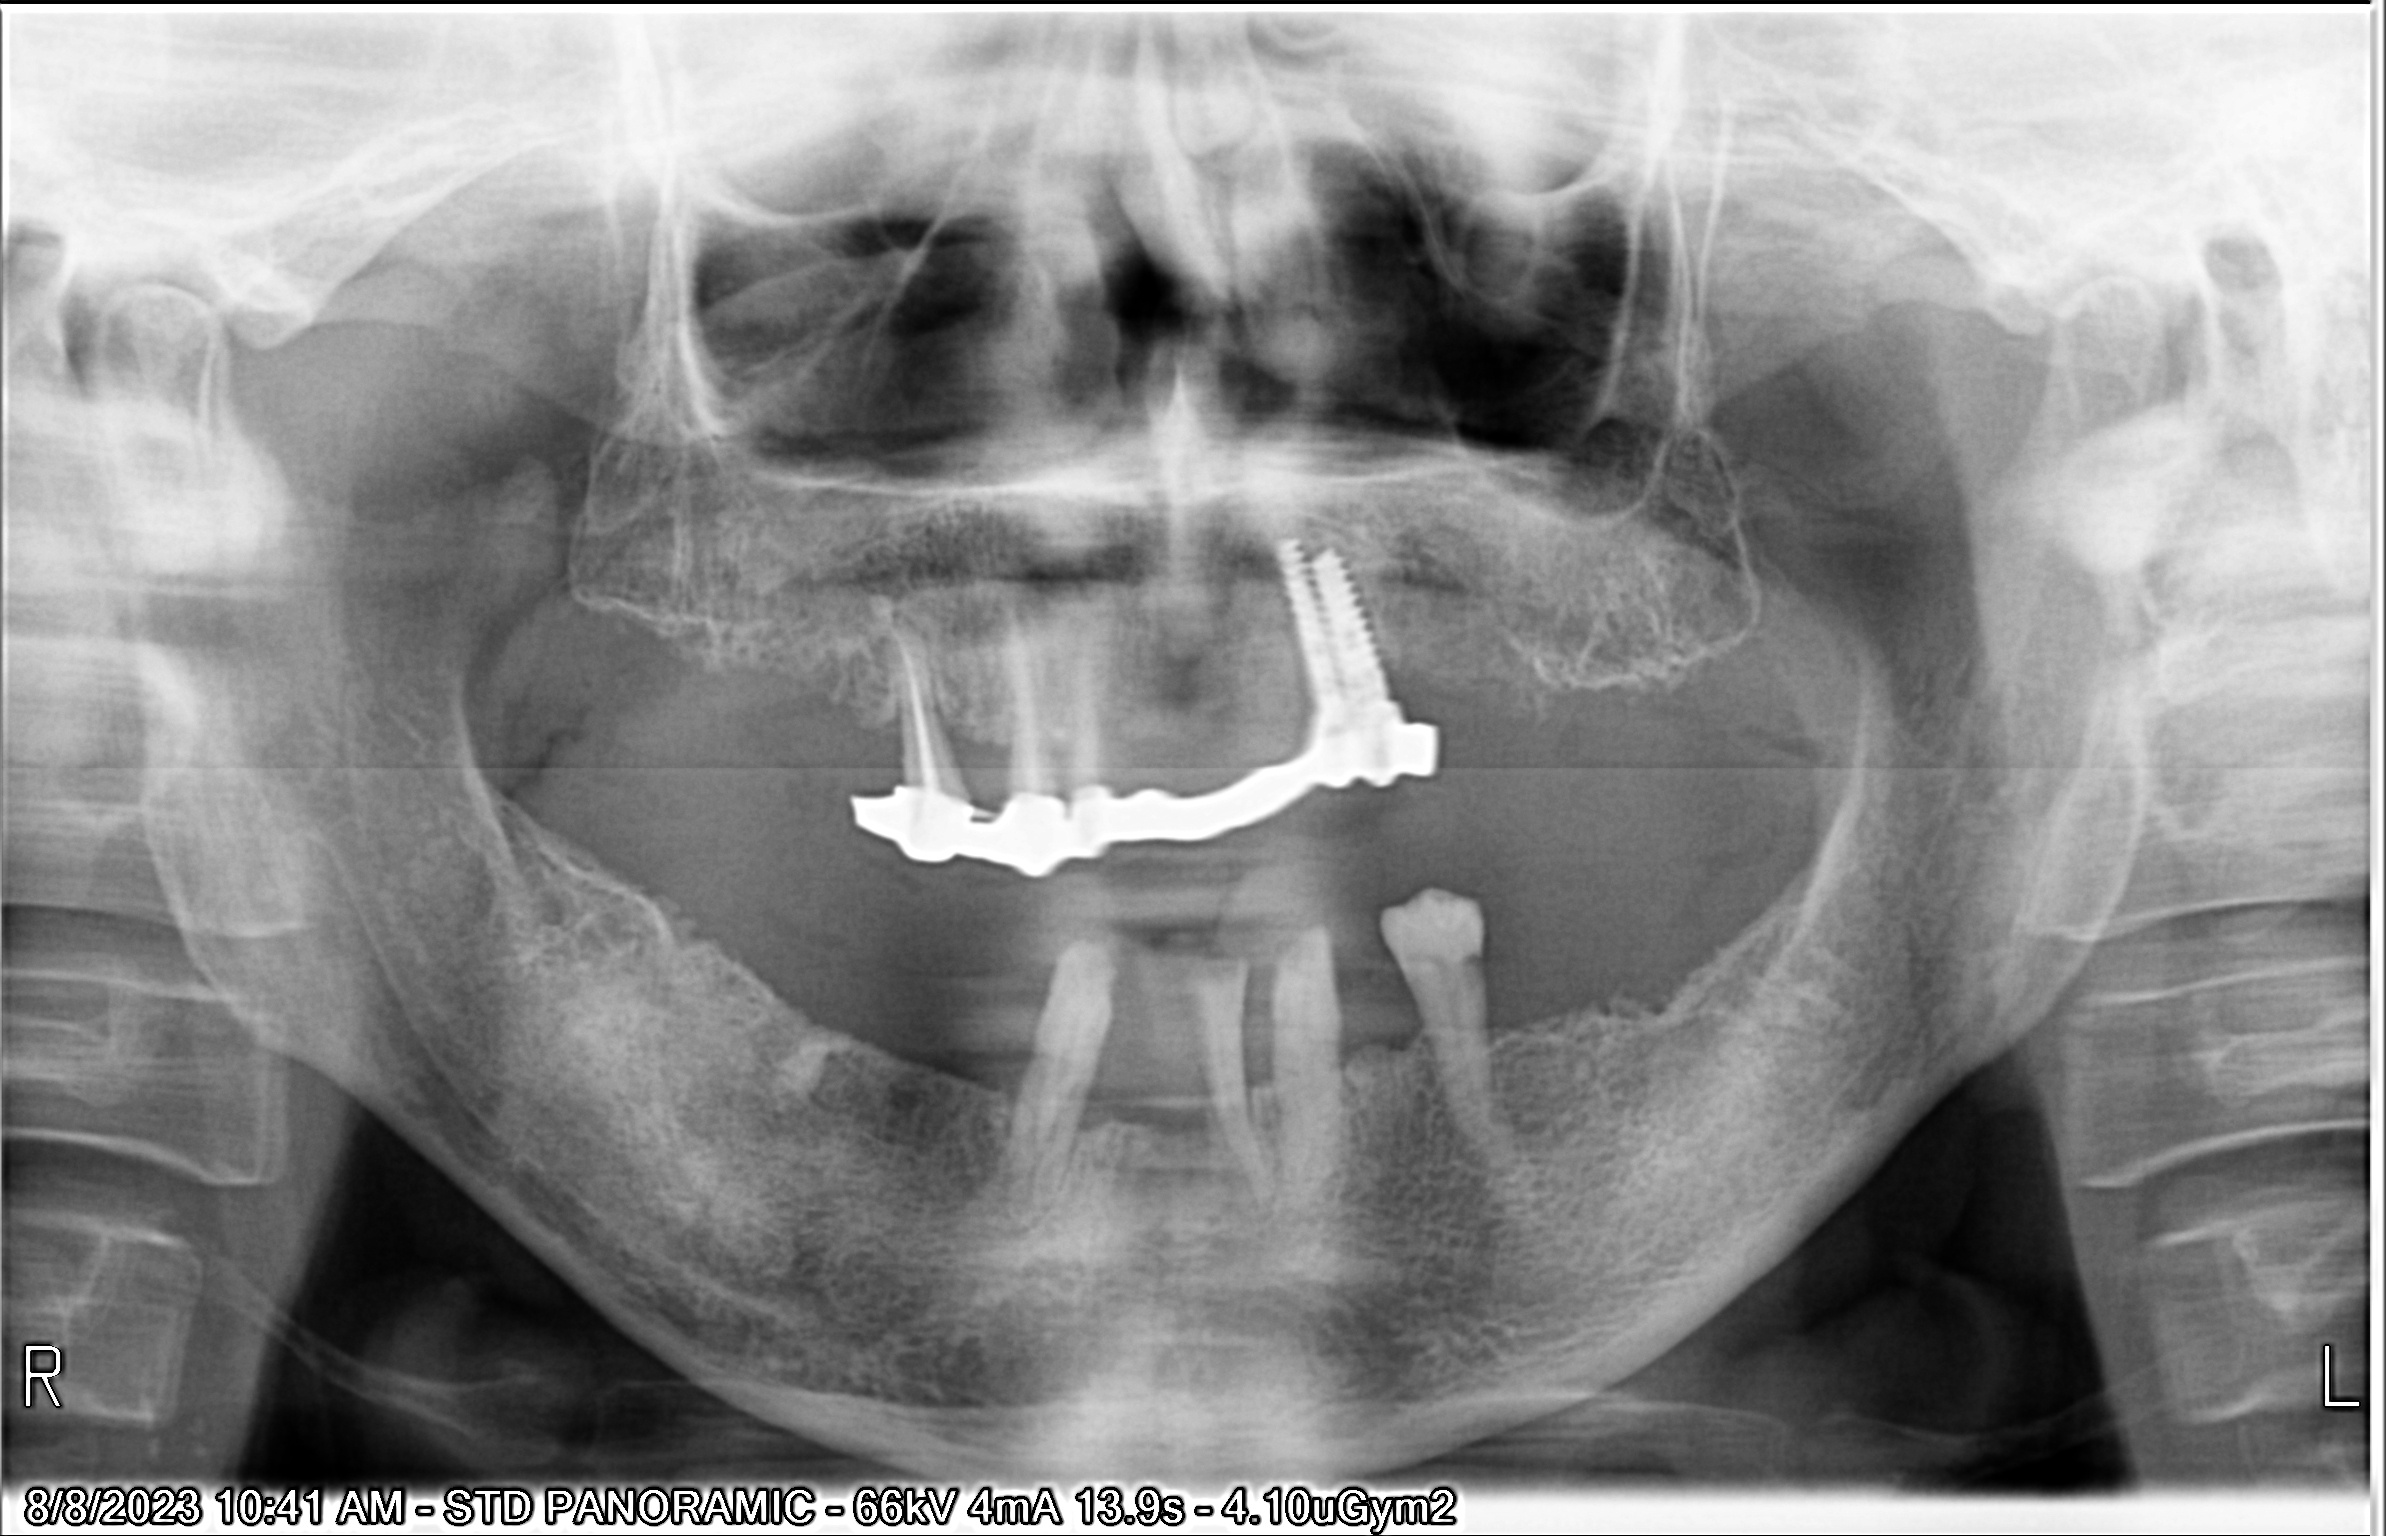CAR: (704, 445, 2202, 1453)
END: (365, 202, 1346, 1002)
IMP: (553, 117, 1946, 863)
PRR: (31, 275, 1534, 1125)
